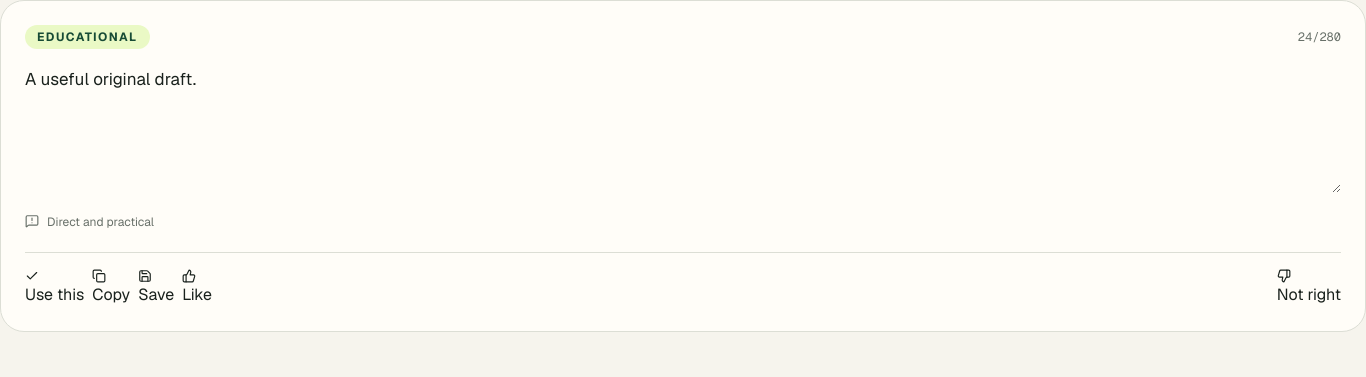
Test: DraftCard feedback › preserves edited text, rolls back failed state, and retries the same event
Replace the text in the text box named "Edit educational draft" with "A shorter edited draft.": [683, 129] box left=25, top=65, right=1341, bottom=193
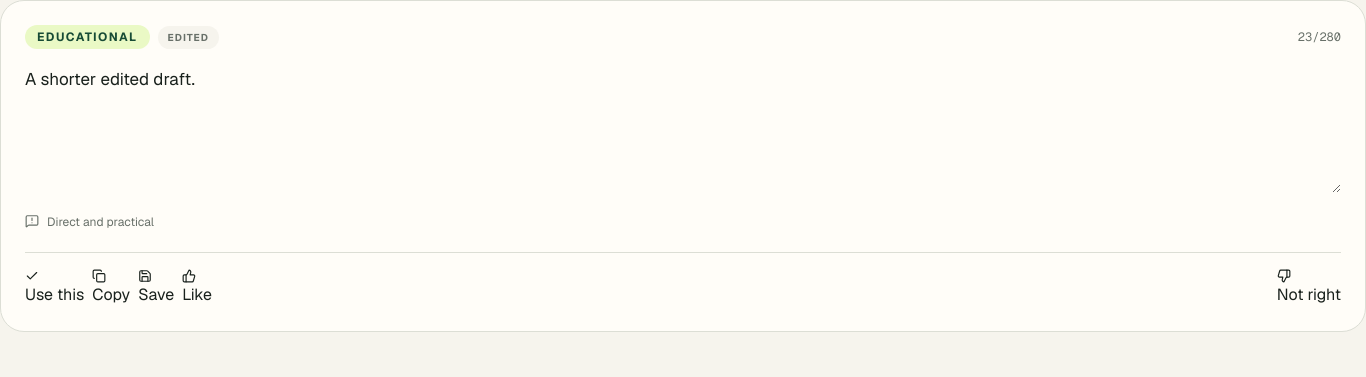
Expected: the text "Edited" is shown, left=158, top=26, right=219, bottom=48
Click the button "Save": [156, 288] box left=138, top=269, right=174, bottom=307
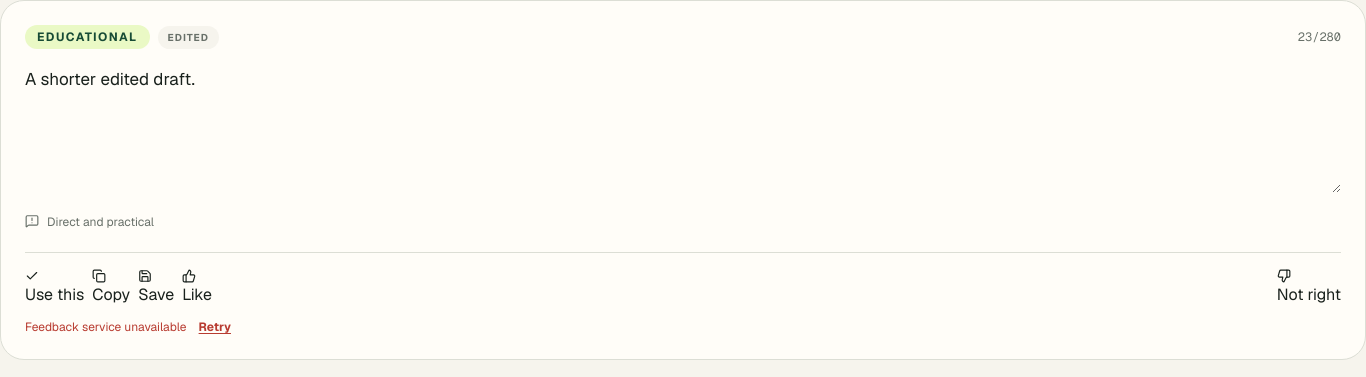
Expected: the message shows "Feedback service unavailable", left=25, top=319, right=187, bottom=335
Click the button "Retry": [215, 327] box left=199, top=319, right=231, bottom=335
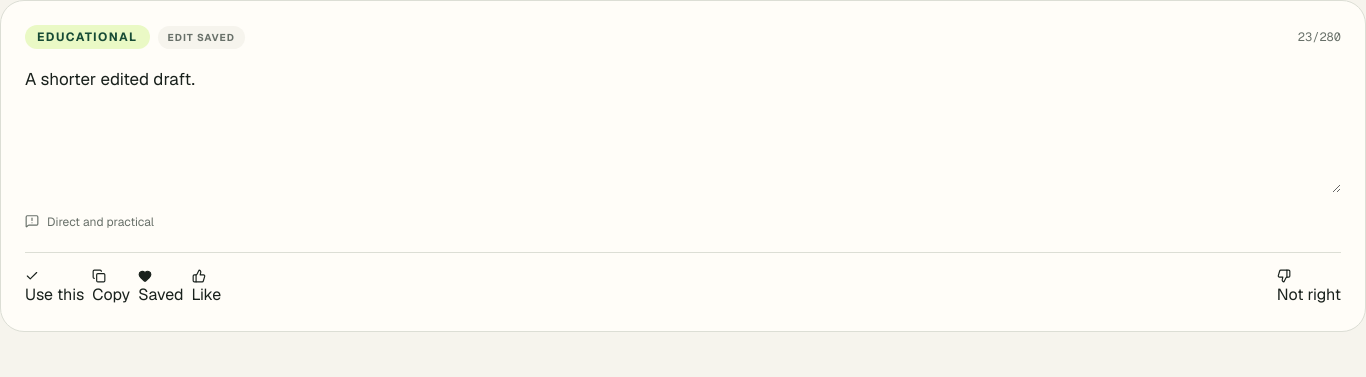
Expected: the button "Saved" is shown, left=138, top=269, right=184, bottom=307
Expected: the text "Edit saved" is shown, left=158, top=26, right=245, bottom=48
